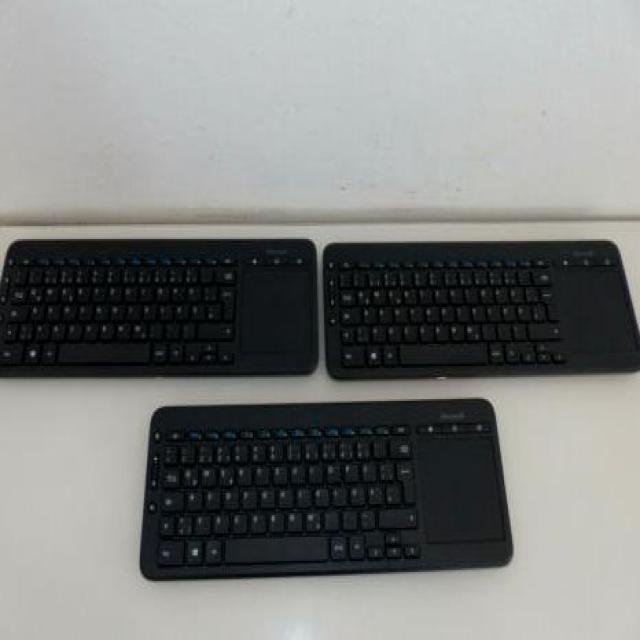keyboard: (137, 392, 515, 581), (0, 233, 319, 379), (321, 239, 640, 381)
